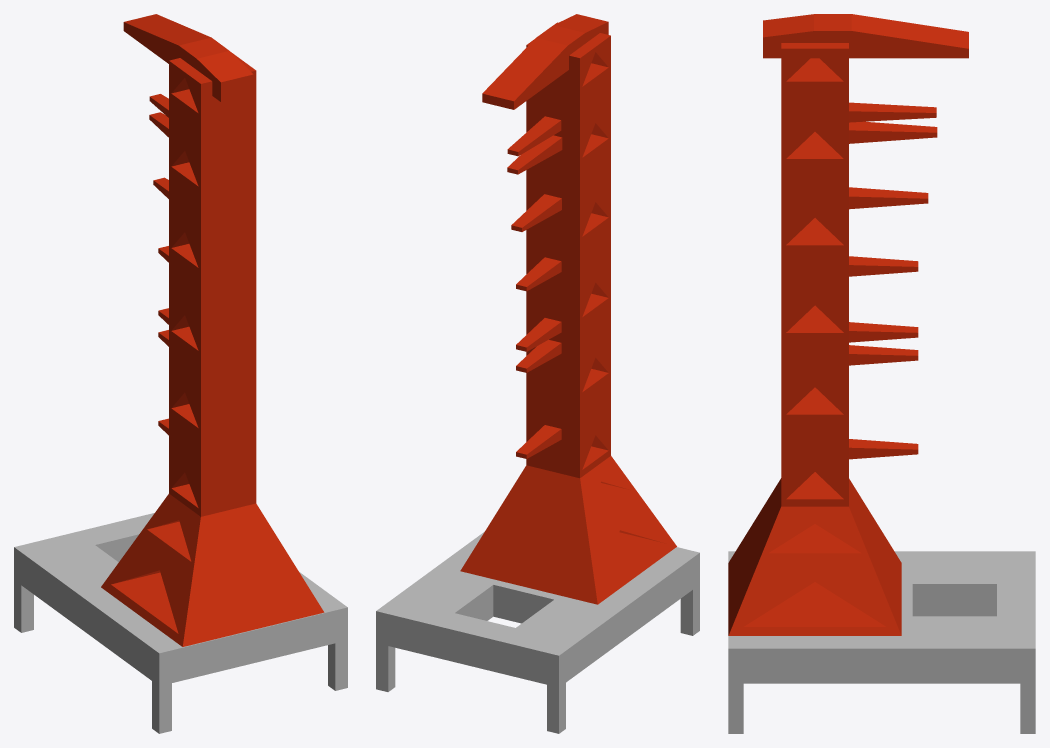
Rendered from Tower and MLP.fbx.
3 views of the same model, side by side, from view 1: azimuth 30°, elevation 25°; view 2: azimuth 150°, elevation 25°; view 3: azimuth 270°, elevation 25° (orthographic). The views are drawn at different scales.
Visible parts, largest first — view 1: Tower and MLP; view 2: Tower and MLP; view 3: Tower and MLP.
Boxes of the visible parts, <box> form: Tower and MLP: <box>14,14,347,733</box>; Tower and MLP: <box>376,14,699,733</box>; Tower and MLP: <box>728,14,1035,733</box>.
Bounding box in the file's own units: 600 × 1905 × 800.
